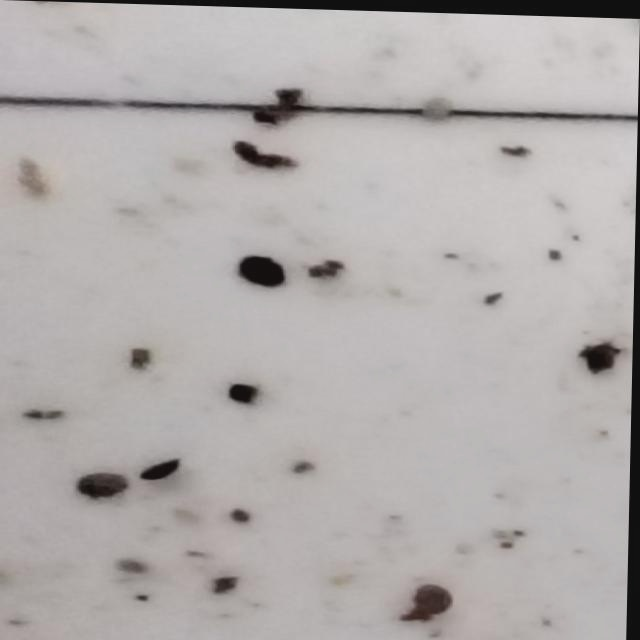varroa: (239, 253, 287, 287), (79, 469, 131, 500), (415, 578, 456, 617)
